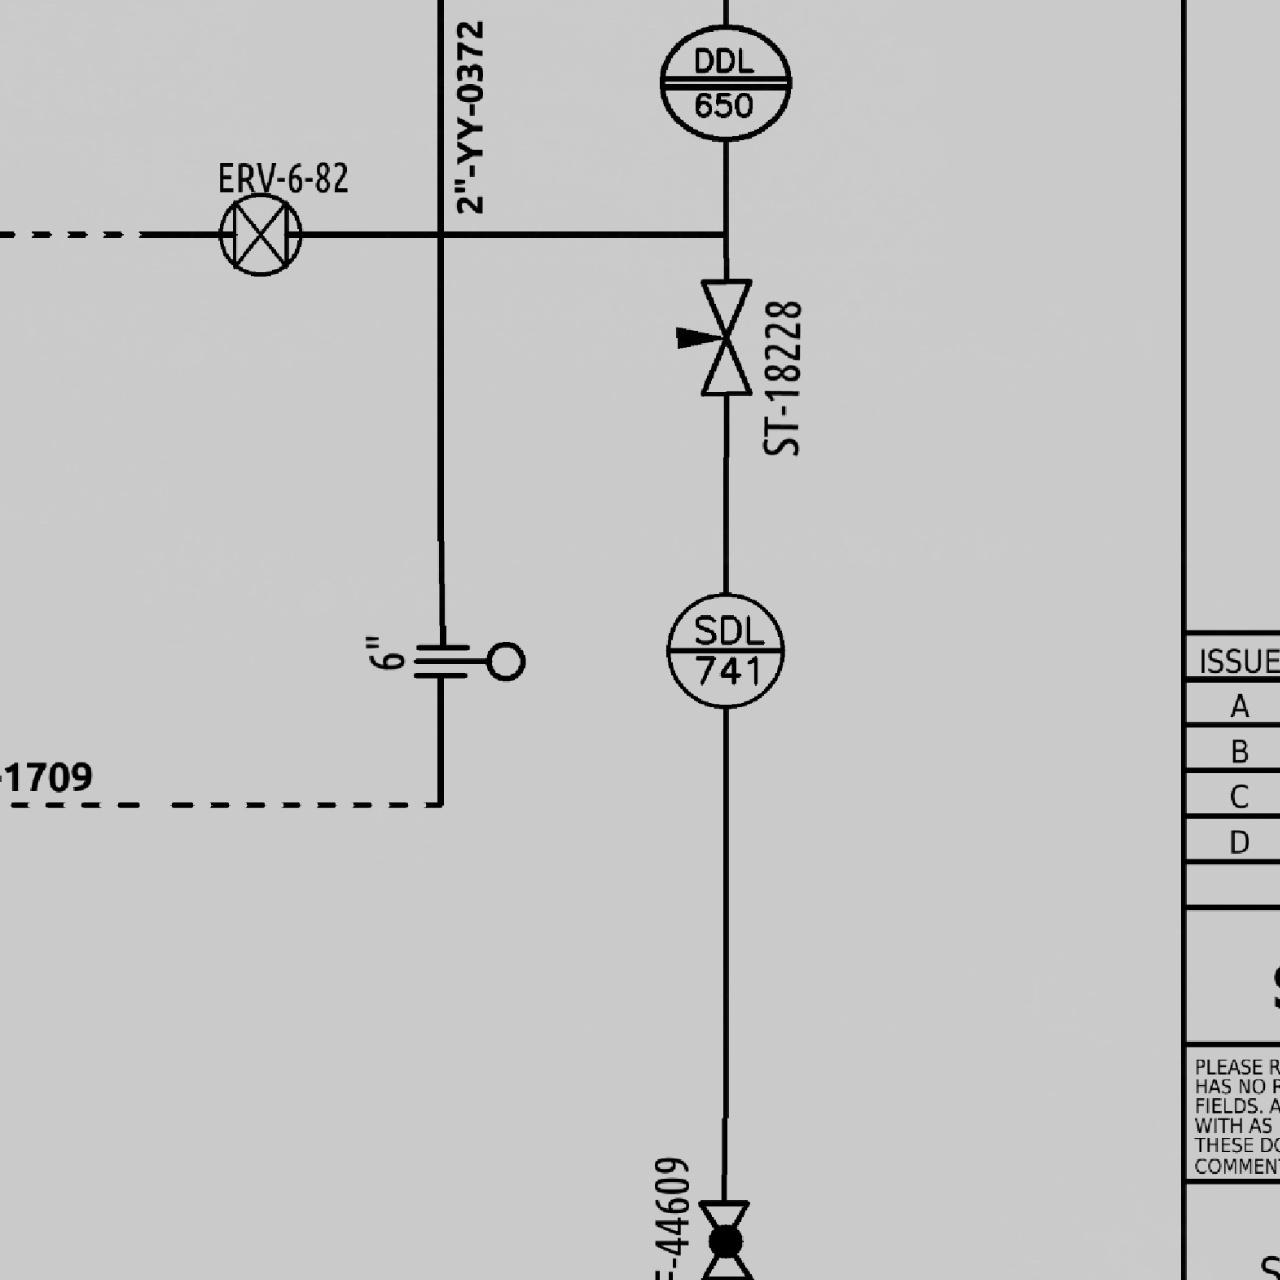Control-Panel: (654, 12, 794, 152)
